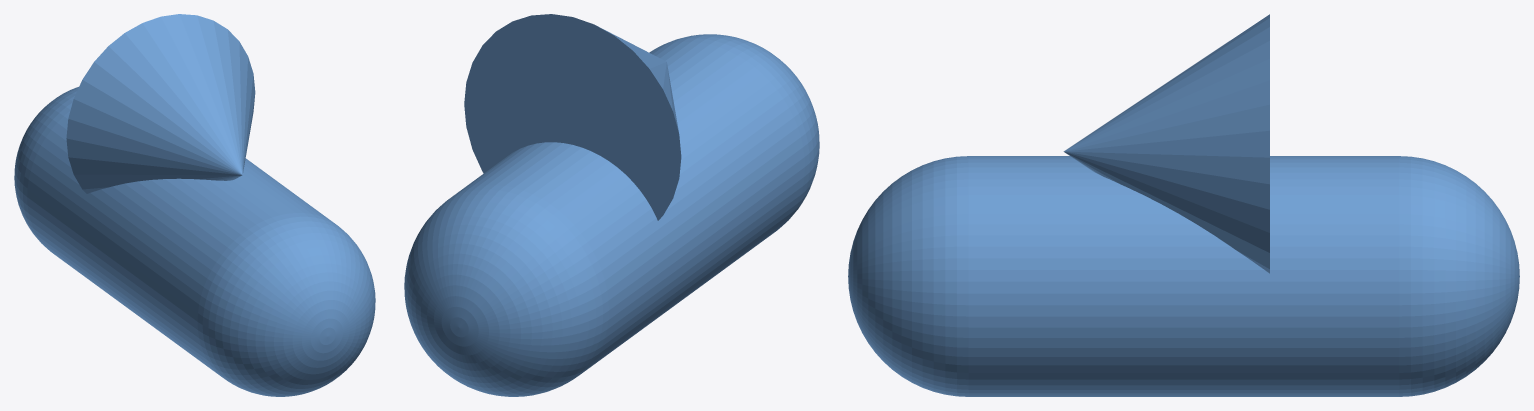
File: creature_7.glb
The picture shows the model from 3 angles, left to right: view 1: azimuth 30°, elevation 25°; view 2: azimuth 150°, elevation 25°; view 3: azimuth 270°, elevation 25°; orthographic projection. The views are drawn at different scales.
Parts seen in each view (by area): view 1: geometry_0; view 2: geometry_0; view 3: geometry_0.
Boxes of the visible parts, x1,y1,x2,y2 form: geometry_0: (14,14,375,396); geometry_0: (404,14,819,396); geometry_0: (848,14,1519,396).
Size of the model in its own units: 1.6 by 2.3 by 3.9.
